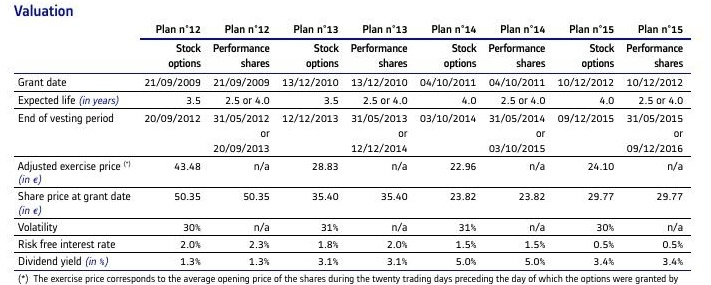table: (0, 0, 711, 285)
